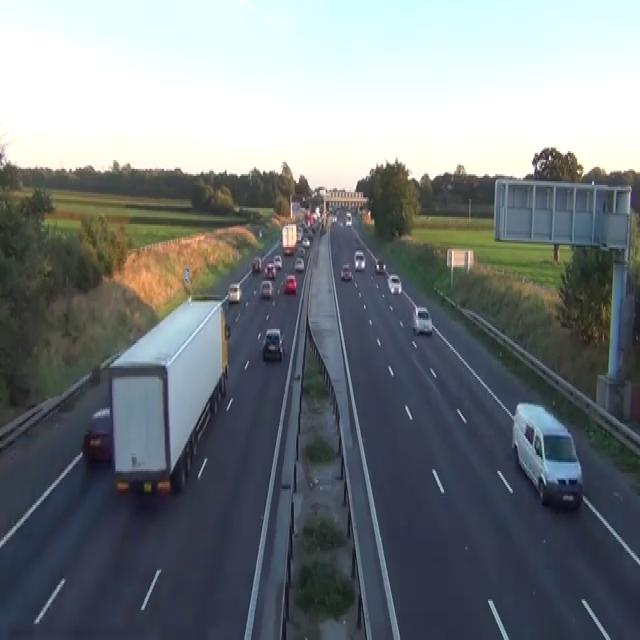Car: (511, 402, 582, 508), (82, 406, 112, 462), (98, 350, 121, 382), (262, 327, 283, 361), (412, 306, 432, 334), (387, 274, 402, 293), (259, 279, 272, 299), (353, 249, 365, 270), (228, 283, 241, 302), (283, 274, 296, 293), (340, 263, 352, 281), (264, 261, 276, 279), (374, 258, 385, 274), (294, 256, 304, 272), (252, 256, 261, 272), (273, 254, 282, 268), (345, 210, 352, 226), (296, 226, 303, 242), (271, 215, 280, 226), (296, 245, 305, 256), (224, 322, 230, 338), (319, 222, 326, 235), (301, 237, 310, 247), (283, 246, 293, 254), (337, 217, 344, 226), (331, 215, 337, 222), (278, 237, 282, 246), (258, 228, 262, 236)
Truck: (108, 295, 230, 494), (281, 222, 297, 254)
